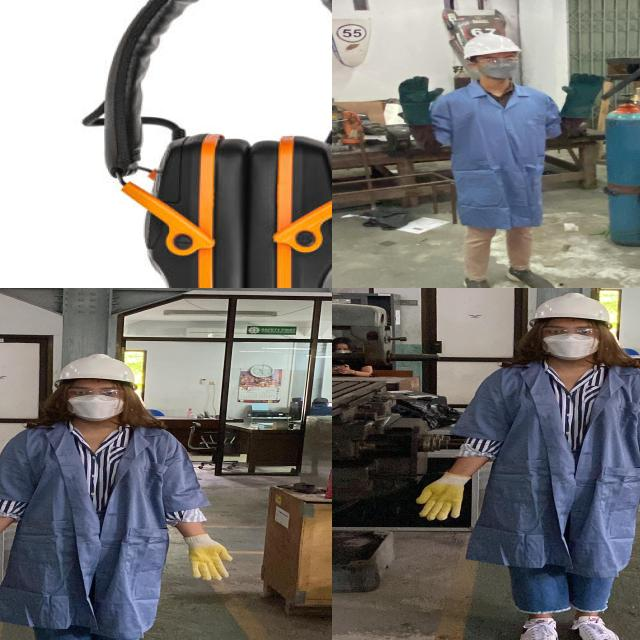Ear-protection: (56, 0, 332, 288)
face_mask: (538, 324, 604, 360), (63, 385, 128, 421), (477, 54, 525, 82), (332, 345, 353, 356)
glasses: (60, 386, 132, 402), (536, 325, 606, 341), (470, 55, 522, 67)
hand_glove: (411, 471, 476, 523), (184, 535, 236, 582), (392, 74, 448, 111), (559, 71, 613, 106)
hand_noglove: (336, 364, 354, 376)
head_helmet: (528, 290, 612, 324), (53, 352, 137, 384), (457, 32, 527, 59)
head_nohelmet: (332, 335, 355, 347)
person: (410, 288, 640, 640), (0, 347, 253, 640), (391, 31, 619, 288)
shoes: (564, 608, 626, 640), (501, 263, 561, 288), (514, 612, 566, 640), (455, 265, 501, 288)
